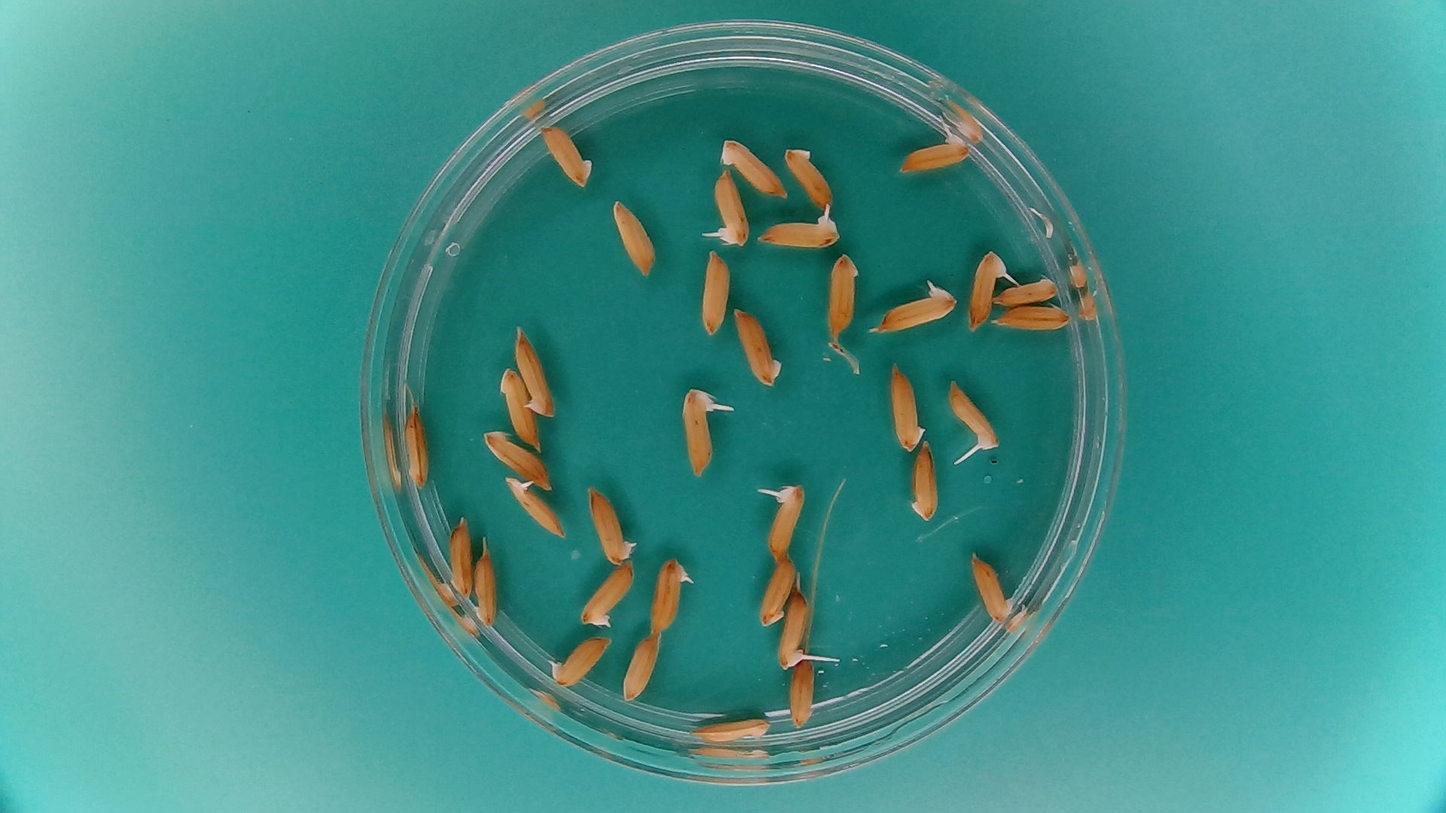no: (511, 321, 560, 422), (731, 304, 786, 391), (480, 430, 552, 491), (716, 137, 786, 198), (578, 559, 636, 630), (610, 197, 660, 279), (888, 359, 929, 455), (822, 249, 862, 346), (967, 548, 1015, 626), (497, 364, 540, 450), (695, 246, 734, 340), (782, 143, 834, 210), (619, 629, 664, 704), (757, 553, 797, 629), (689, 709, 773, 745), (542, 127, 592, 185), (471, 540, 502, 630), (908, 441, 941, 525), (401, 405, 433, 490), (445, 511, 474, 601), (992, 303, 1071, 333), (786, 661, 818, 729), (993, 275, 1060, 306)
yes: (880, 281, 956, 333), (947, 377, 1001, 450), (647, 553, 695, 635), (757, 206, 843, 251), (505, 476, 565, 539), (679, 387, 718, 480), (550, 633, 616, 687), (587, 489, 630, 568), (967, 248, 1008, 327), (897, 133, 972, 175), (710, 174, 752, 249), (777, 586, 813, 671), (765, 485, 808, 556)
